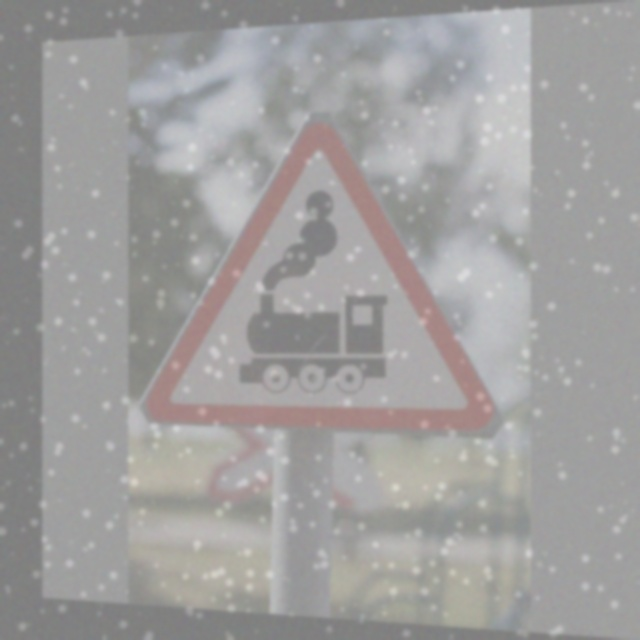Unguarded_Level_Crossing: (155, 97, 493, 439)
